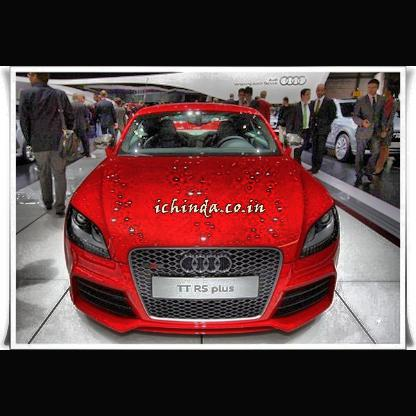Audi TT RS Coupe 2012: (66, 102, 341, 335)
